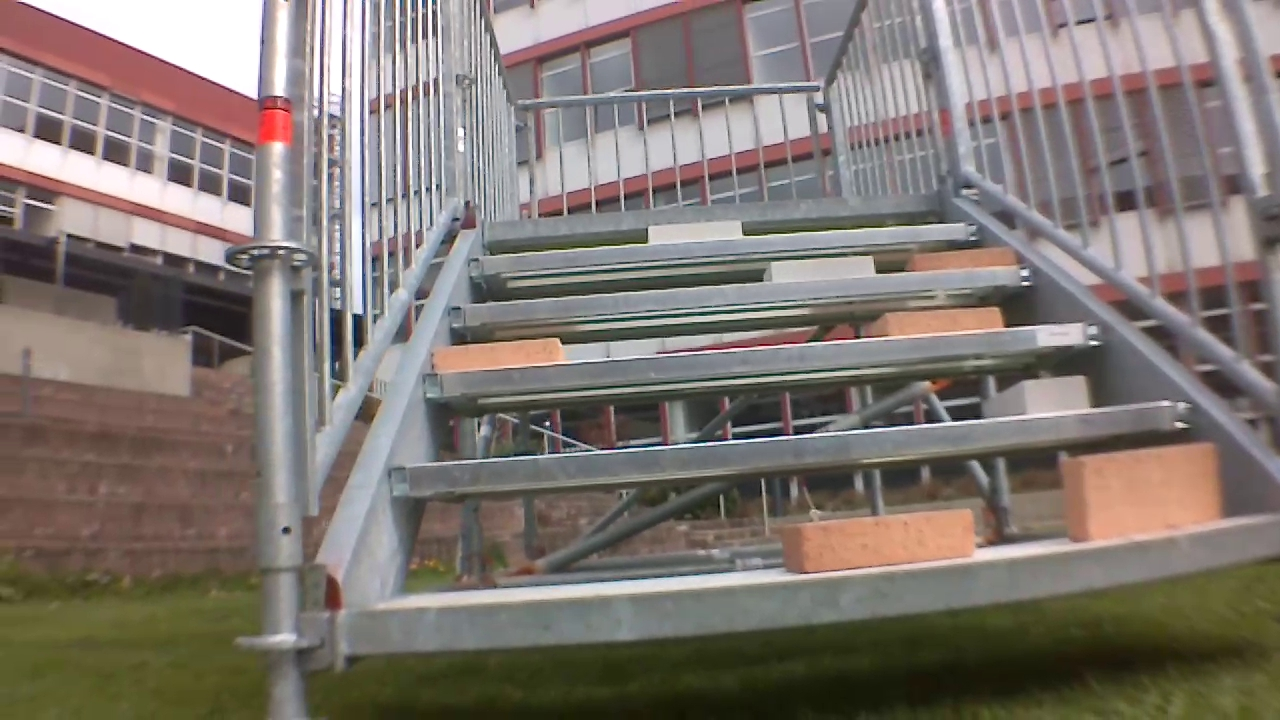brick: (1065, 441, 1228, 541), (792, 507, 987, 575), (987, 371, 1090, 419), (869, 301, 1000, 338), (418, 338, 564, 369), (768, 252, 880, 283), (643, 220, 750, 242), (912, 250, 1016, 272)
edge: (372, 509, 1280, 663), (399, 396, 1208, 496), (431, 321, 1122, 394), (447, 264, 1045, 328), (489, 190, 946, 230), (476, 229, 983, 264)
steps: (287, 184, 1280, 681)
